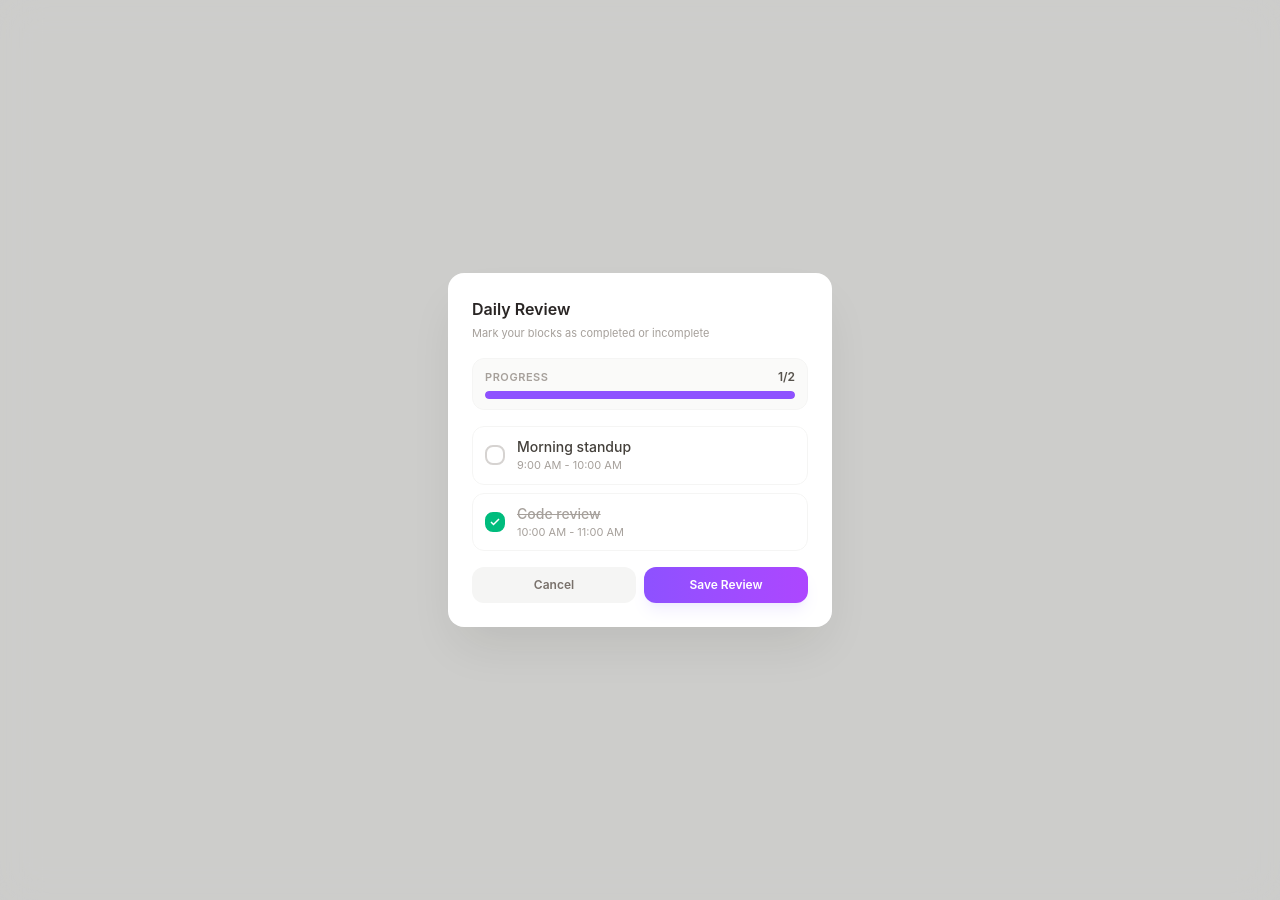
it: ReviewModal › toggles block completion on click
This screenshot has width=1280, height=900.
expect the text "Morning standup" is shown: met, box [517,438,631,455]
// b1 starts as not completed — click it to complete
Click the button "Morning standup 9:00 AM - 10:00 AM".
click(574, 446)  # box [472,426,808,484]
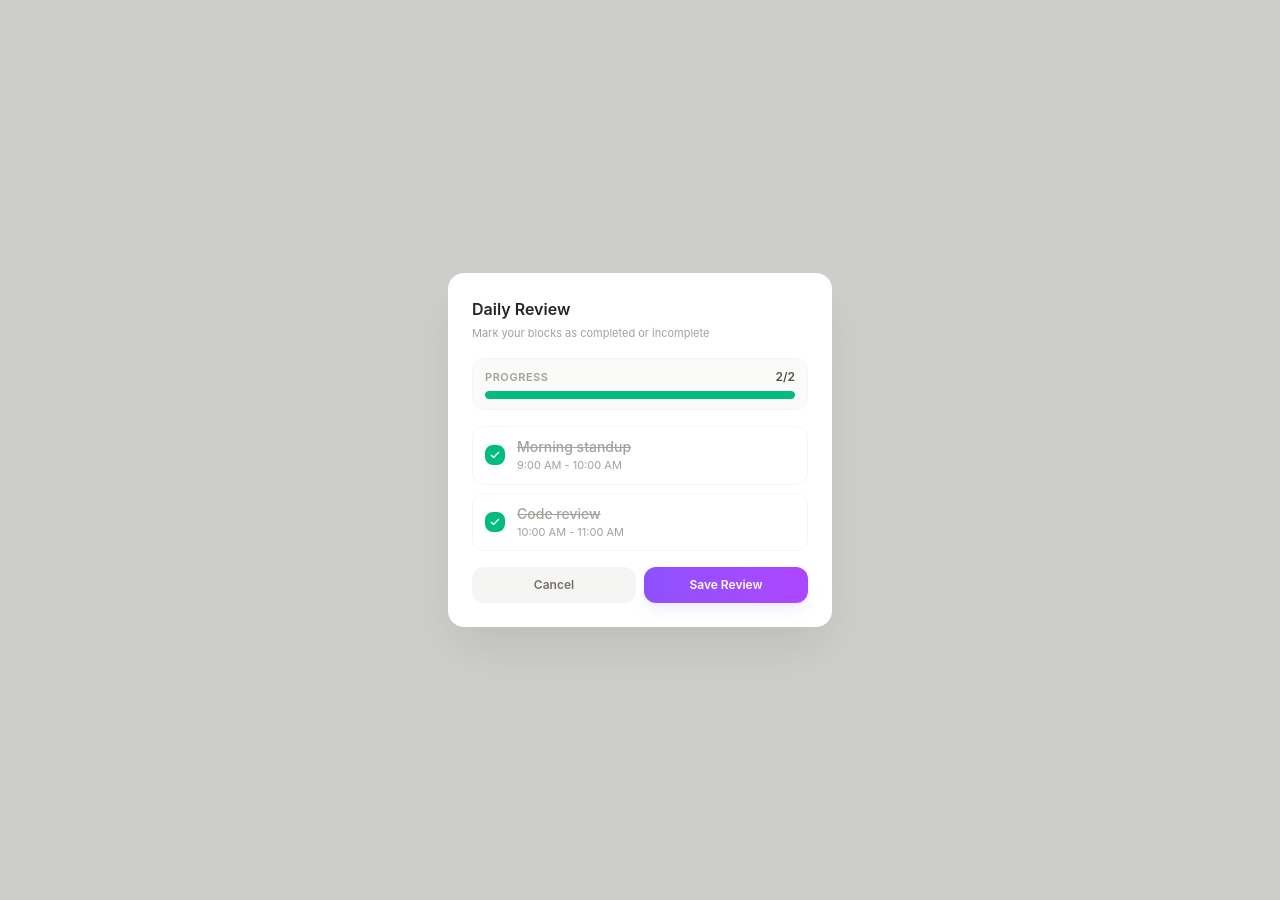
expect the text "2/2" is shown: met, box [776,369,795,385]
